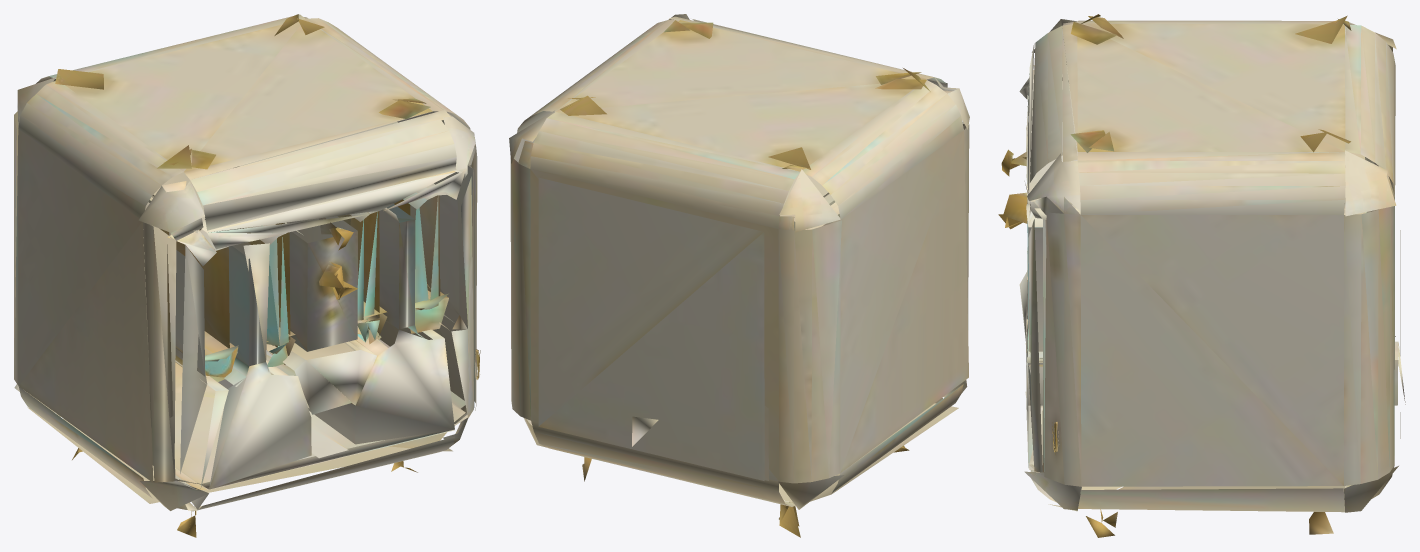
File: battery.lod1.glb
The picture shows the model from 3 angles, left to right: view 1: azimuth 30°, elevation 25°; view 2: azimuth 150°, elevation 25°; view 3: azimuth 270°, elevation 25°; orthographic projection. The views are drawn at different scales.
Visible parts, largest first — view 1: battery; view 2: battery; view 3: battery.
Part boxes in pixels (x1=…): battery: x1=14, y1=14, x2=480, y2=537; battery: x1=509, y1=14, x2=969, y2=537; battery: x1=998, y1=14, x2=1405, y2=537.
Bounding box in the file's own units: 0.8247 × 0.916 × 0.8124.
Materials: 1 (1 with a texture image).
